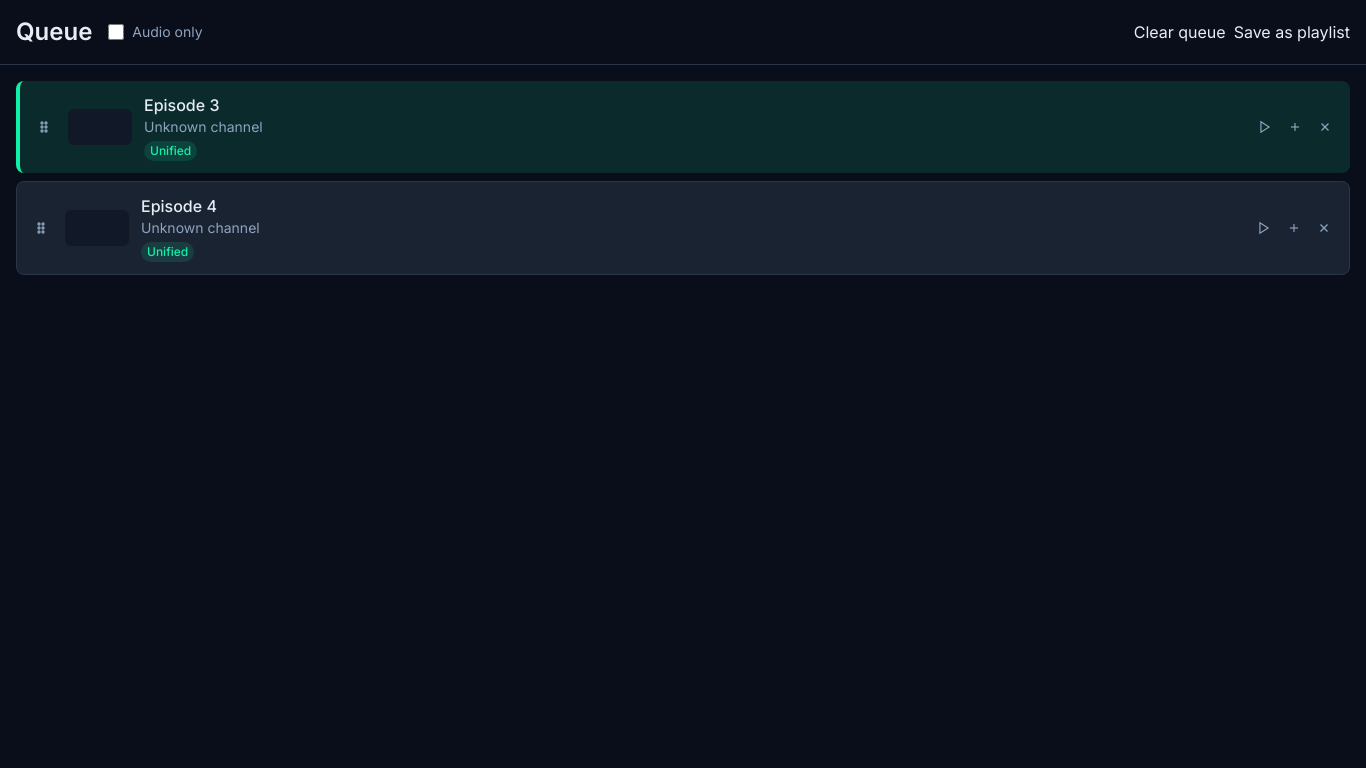
Test: QueueScreen clear-queue confirmation (F05-H1 step 5) › Cancel keeps the queue and closes the dialog
Click the button "Clear queue". click: (1180, 32)
box: [1134,20,1226,44]
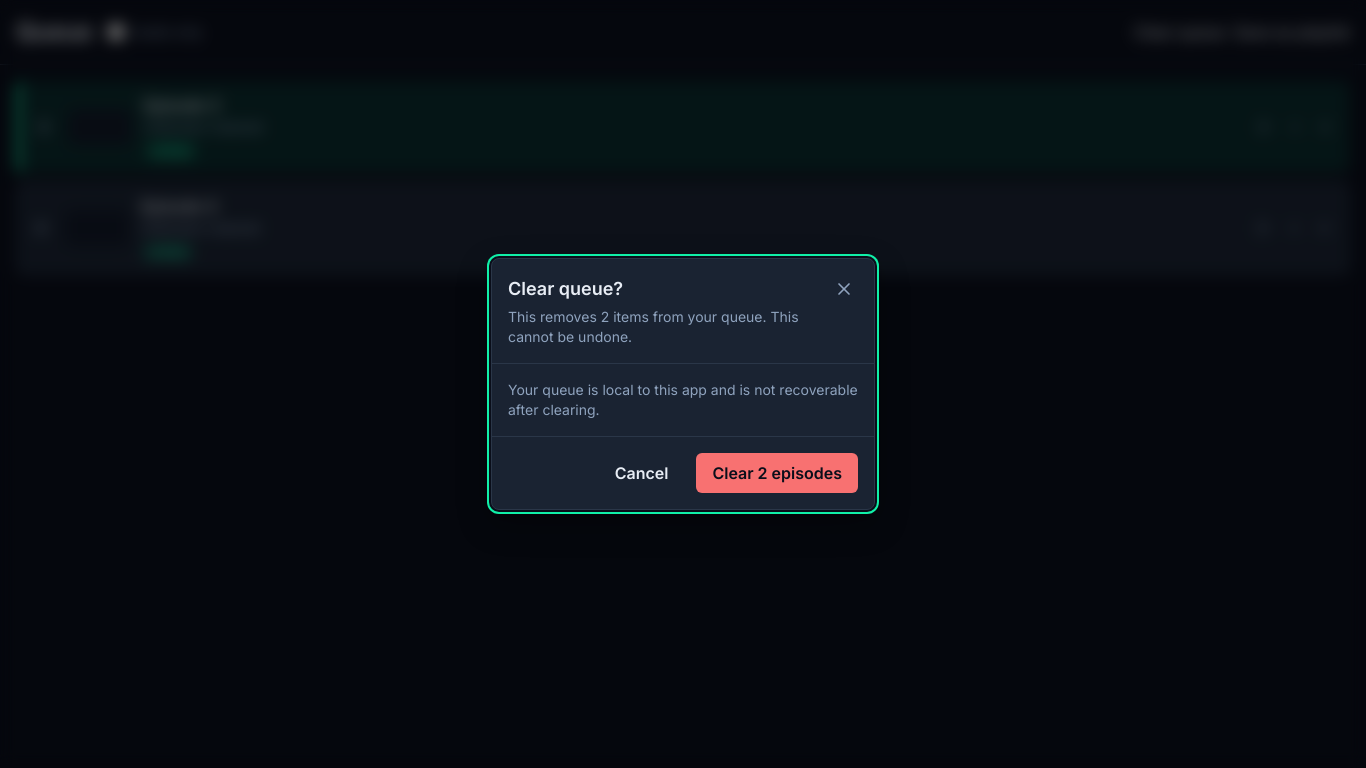
Click the button "Cancel". click: (642, 473)
box: [599,453,684,493]
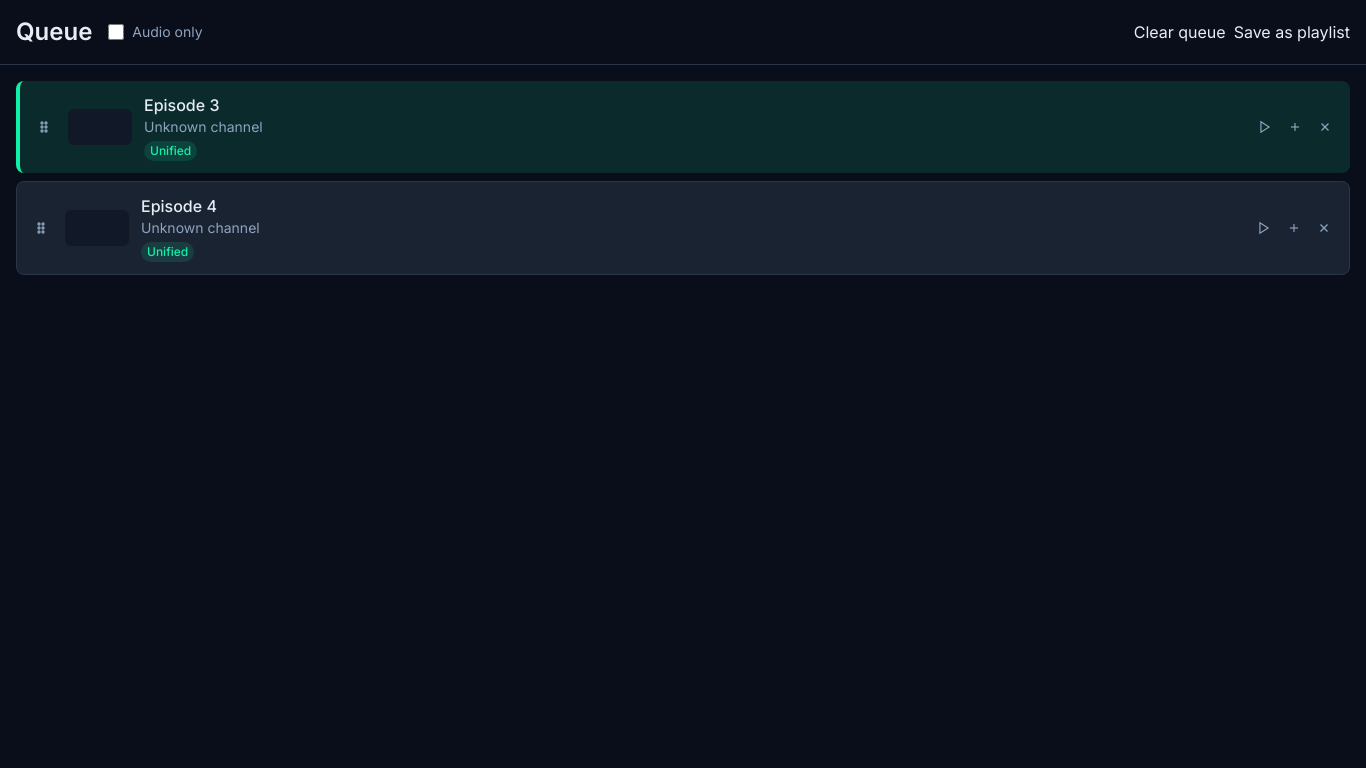
Check: the dialog is gone
